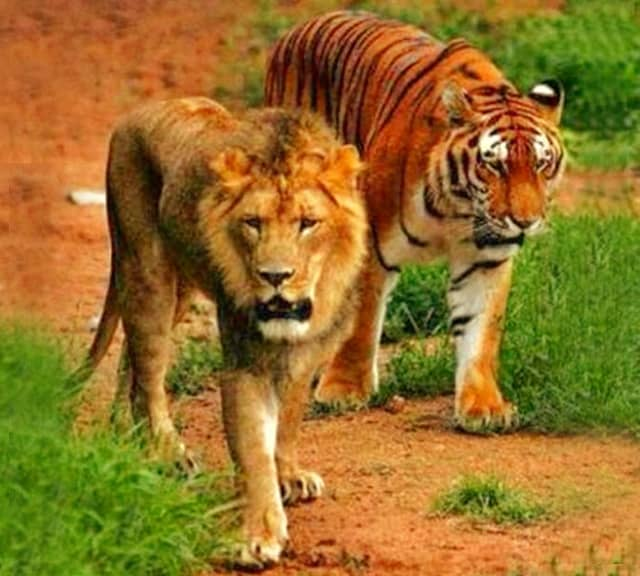lion: (74, 98, 373, 572)
tiger: (259, 10, 570, 426)
